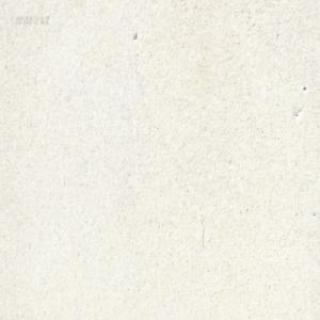Wrenchtrack_idkeyframe: (189, 0, 196, 4)
